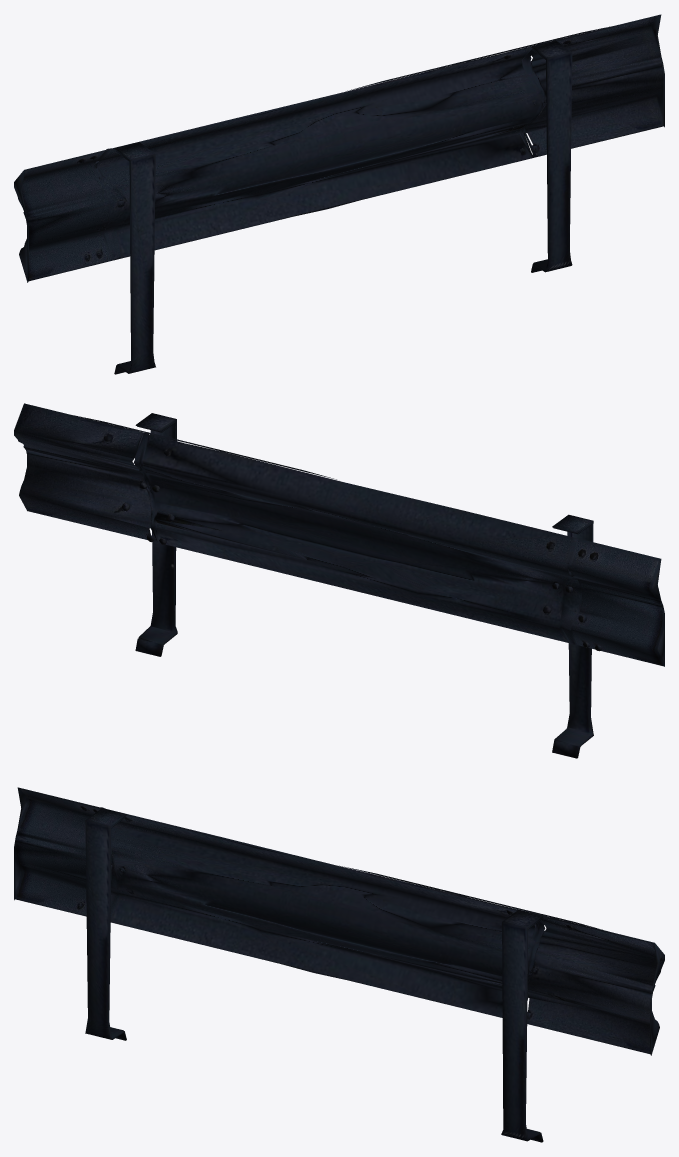
Rendered from guardrail.glb.
3 views of the same model, one above another, from view 1: azimuth 30°, elevation 25°; view 2: azimuth 150°, elevation 25°; view 3: azimuth 330°, elevation 25° (orthographic).
Parts seen in each view (by area): view 1: tripo_node_db0818c0-9726-4bb7-ac53-fa626b7c266a; view 2: tripo_node_db0818c0-9726-4bb7-ac53-fa626b7c266a; view 3: tripo_node_db0818c0-9726-4bb7-ac53-fa626b7c266a.
Boxes of the visible parts, box(x1,y1,x2,y2) form: tripo_node_db0818c0-9726-4bb7-ac53-fa626b7c266a: box(14, 14, 664, 374); tripo_node_db0818c0-9726-4bb7-ac53-fa626b7c266a: box(14, 403, 664, 758); tripo_node_db0818c0-9726-4bb7-ac53-fa626b7c266a: box(14, 787, 664, 1142).
Size of the model in its own units: 0.998 by 0.3379 by 0.0803.
Materials: 1 (1 with a texture image).
